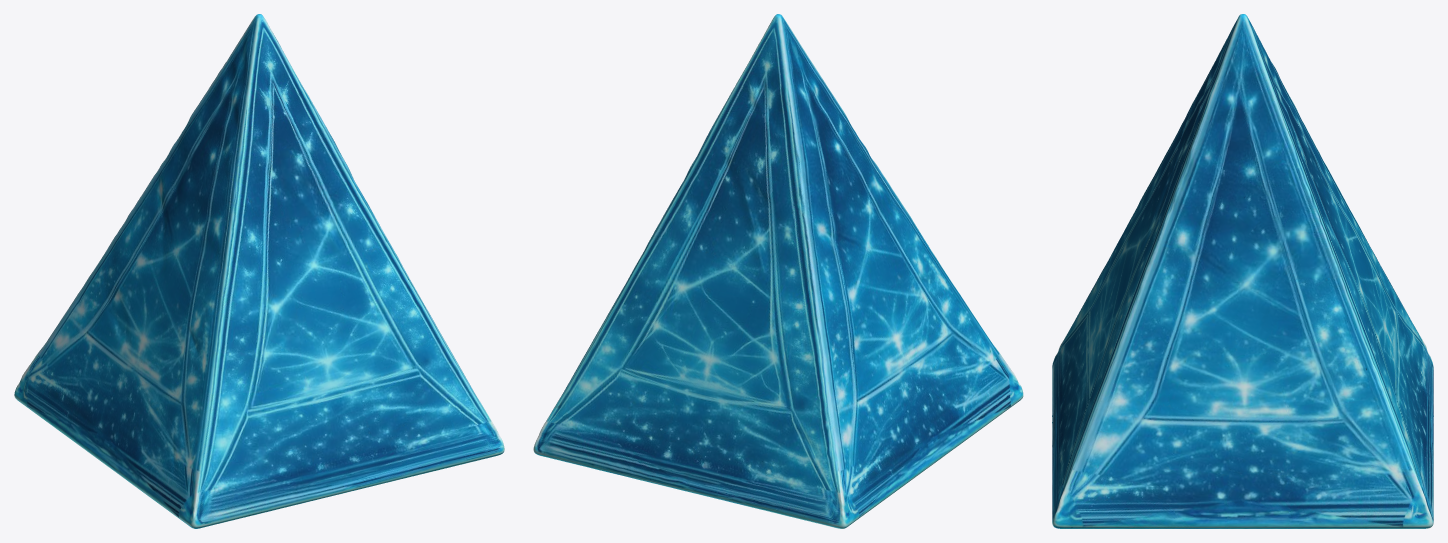
File: Meshy_AI_pyramid_0317213913_texture.glb
3 views of the same model, side by side, from view 1: azimuth 30°, elevation 25°; view 2: azimuth 150°, elevation 25°; view 3: azimuth 270°, elevation 25° (orthographic). The views are drawn at different scales.
Size of the model in its own units: 1.49 by 1.9 by 1.49.
1 material, 1 textured.
